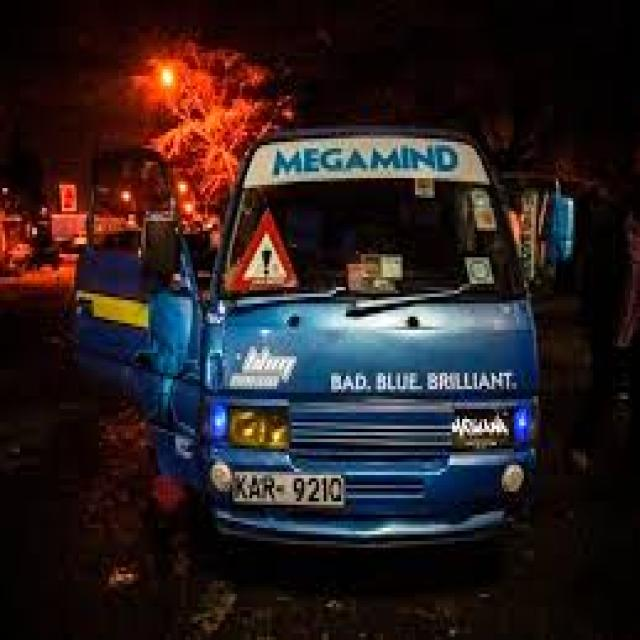matatu: (65, 87, 614, 585)
